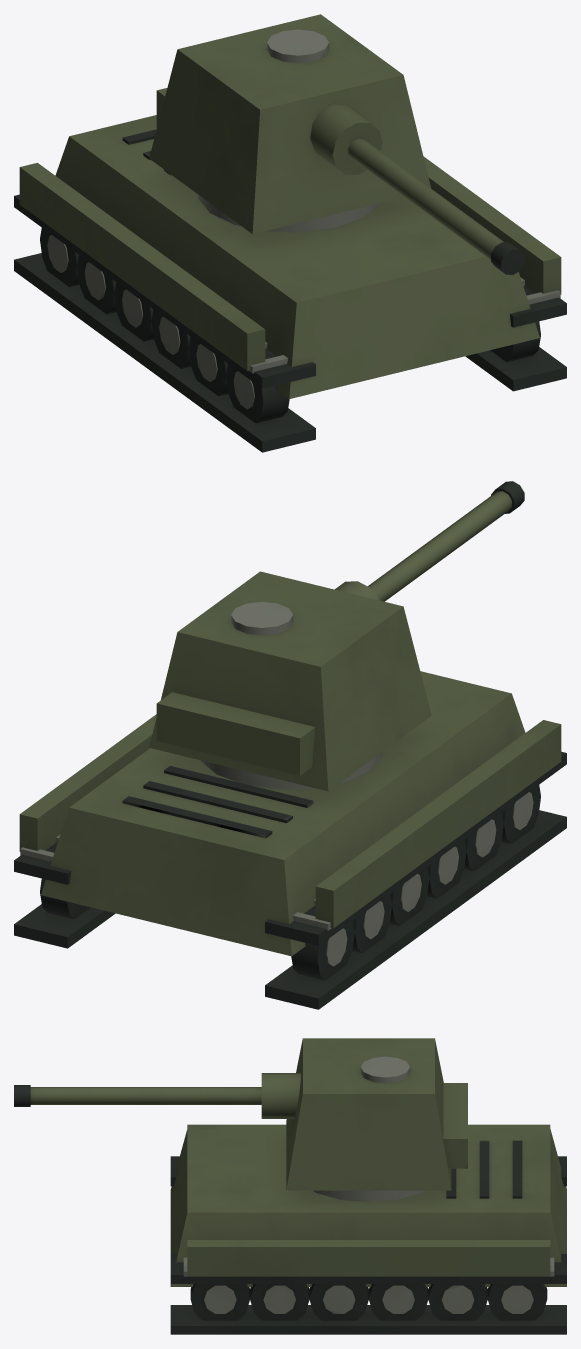
File: military-artillery.fbx
The picture shows the model from 3 angles, top to bottom: view 1: azimuth 30°, elevation 25°; view 2: azimuth 150°, elevation 25°; view 3: azimuth 270°, elevation 25°; orthographic projection. The views are drawn at different scales.
Parts seen in each view (by area): view 1: military-artillery; view 2: military-artillery; view 3: military-artillery.
Part boxes in pixels (bbox=[...]): military-artillery: bbox=[14, 14, 566, 452]; military-artillery: bbox=[14, 481, 566, 1009]; military-artillery: bbox=[14, 1038, 566, 1334].
Bounding box in the file's own units: 17.52 × 14.4 × 33.5.
1 material, 1 textured.
